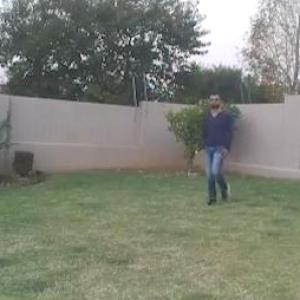follow: (200, 92, 232, 202)
